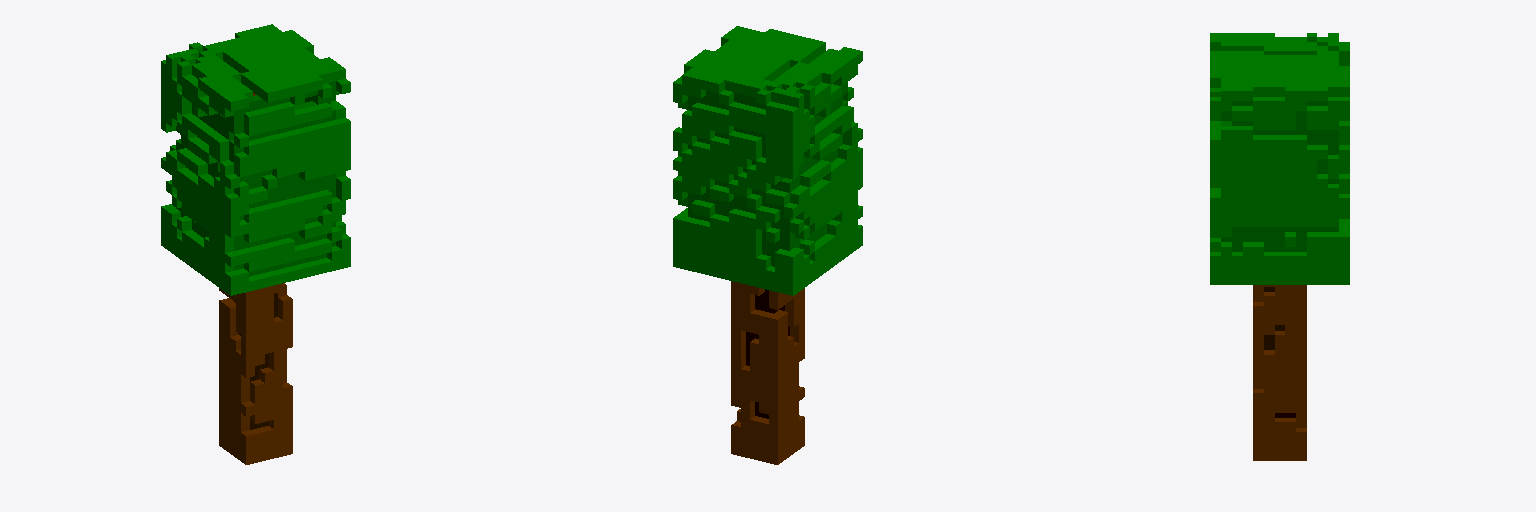
The picture shows the model from 3 angles: view 1: azimuth 30°, elevation 25°; view 2: azimuth 150°, elevation 25°; view 3: azimuth 270°, elevation 25°; orthographic projection.
Visible parts, largest first — view 1: object 1; view 2: object 1; view 3: object 1.
Part boxes in pixels (bbox=[...]): object 1: bbox=[161, 24, 350, 464]; object 1: bbox=[673, 26, 862, 464]; object 1: bbox=[1210, 33, 1349, 460].
Size of the model in its own units: 1.3 by 4 by 1.3.
Materials: 1 (1 with a texture image).